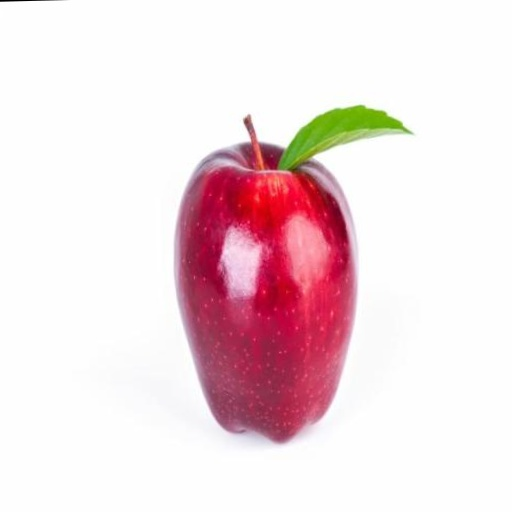fruit: (174, 124, 356, 442)
